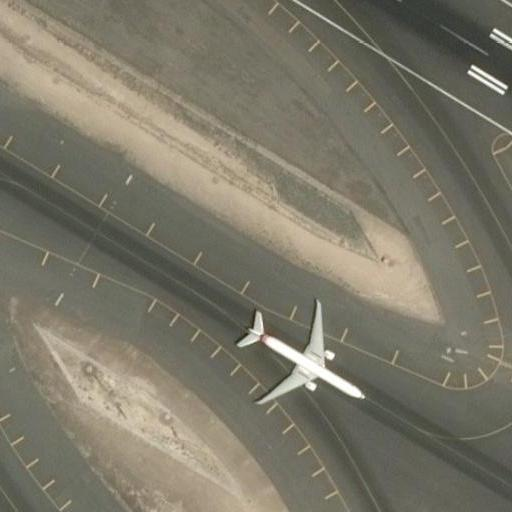Aircraft: (228, 306, 371, 425)
